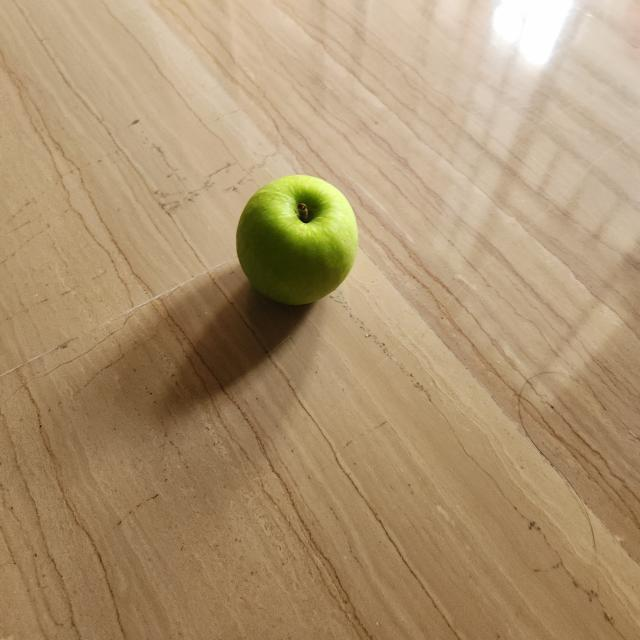apple: (231, 171, 366, 310)
